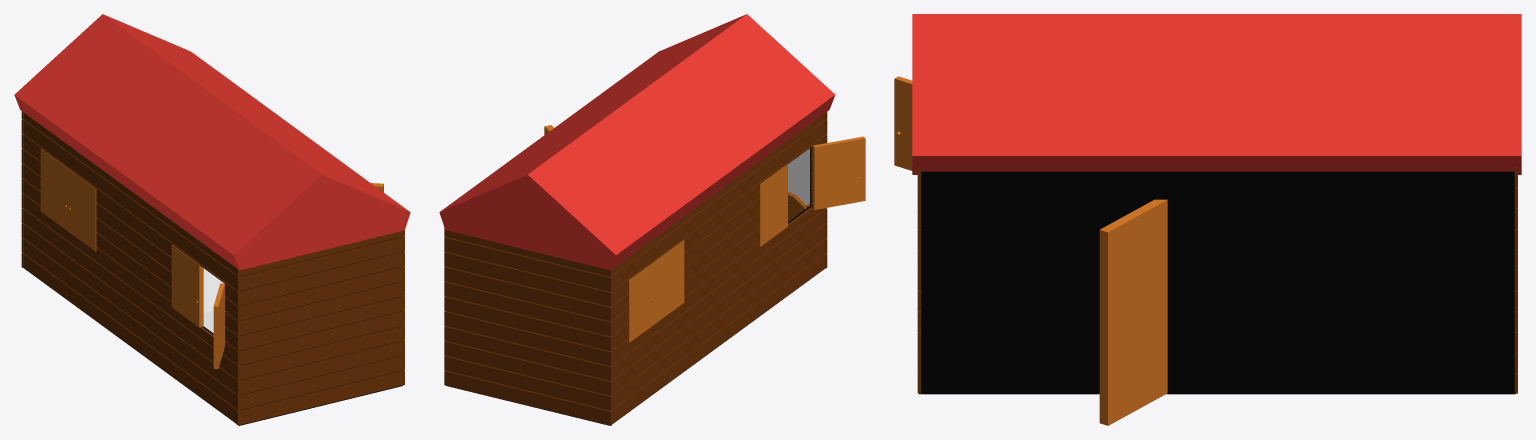
The model's file is CasaPlayer.fbx.
The picture shows the model from 3 angles, left to right: view 1: azimuth 30°, elevation 25°; view 2: azimuth 150°, elevation 25°; view 3: azimuth 270°, elevation 25°; orthographic projection. The views are drawn at different scales.
Visible parts, largest first — view 1: Cube.007, Cylinder, Cube, Cube.002, Cube.004, Cube.003, Cube.001; view 2: Cube.007, Cylinder, Cube.001, Cube.002, Cube.004, Cube.003, Cube; view 3: Cube, Cylinder, Cube.017, Cube.007, Cube.001.
Boxes of the visible parts, <box> form: Cube.007: <box>21,111,404,425</box>; Cylinder: <box>14,14,410,270</box>; Cube: <box>25,237,403,425</box>; Cube.002: <box>171,245,203,327</box>; Cube.004: <box>40,149,68,231</box>; Cube.003: <box>68,169,96,251</box>; Cube.001: <box>213,283,224,369</box>; Cube.007: <box>444,112,827,425</box>; Cylinder: <box>439,14,835,270</box>; Cube.001: <box>813,136,865,209</box>; Cube.002: <box>759,164,787,246</box>; Cube.004: <box>628,260,656,342</box>; Cube.003: <box>657,240,684,322</box>; Cube: <box>446,148,823,425</box>; Cube: <box>919,171,1515,394</box>; Cylinder: <box>912,14,1521,174</box>; Cube.017: <box>1099,199,1167,425</box>; Cube.007: <box>917,167,1517,393</box>; Cube.001: <box>894,76,912,170</box>.
Size of the model in its own units: 300 by 272 by 478.
